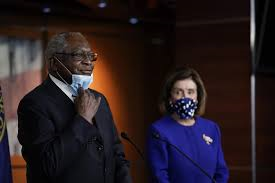mask_weared_incorrect: (53, 44, 101, 93)
with_mask: (167, 82, 202, 118)
